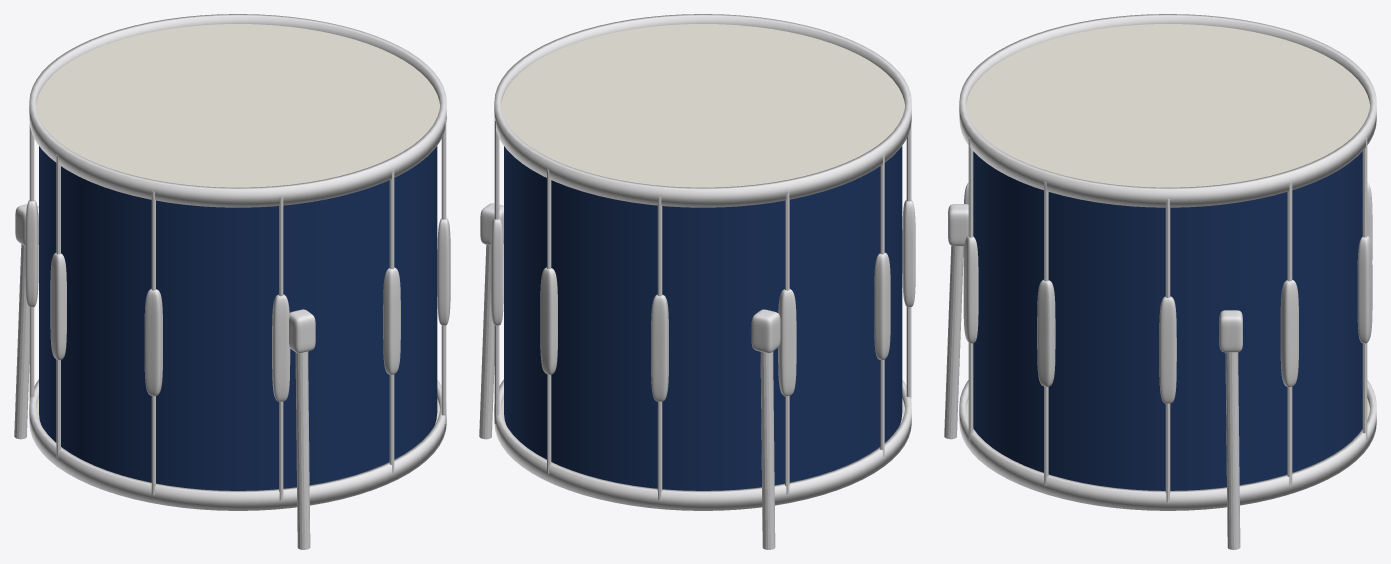
The model's file is floor-tom-blue.glb.
3 views of the same model, side by side, from view 1: azimuth 30°, elevation 25°; view 2: azimuth 150°, elevation 25°; view 3: azimuth 270°, elevation 25° (orthographic).
Visible parts, largest first — view 1: paint_primary_shell, drumhead, chrome; view 2: paint_primary_shell, drumhead, chrome; view 3: paint_primary_shell, drumhead, chrome.
Boxes of the visible parts, x1=… form: paint_primary_shell: x1=39, y1=146, x2=437, y2=490; drumhead: x1=36, y1=24, x2=439, y2=423; chrome: x1=14, y1=14, x2=450, y2=549; paint_primary_shell: x1=504, y1=146, x2=902, y2=490; drumhead: x1=501, y1=24, x2=904, y2=423; chrome: x1=479, y1=14, x2=915, y2=549; paint_primary_shell: x1=973, y1=151, x2=1362, y2=490; drumhead: x1=966, y1=24, x2=1369, y2=419; chrome: x1=944, y1=14, x2=1376, y2=549.
Bounding box in the file's own units: 0.5435 × 0.4923 × 0.543.
